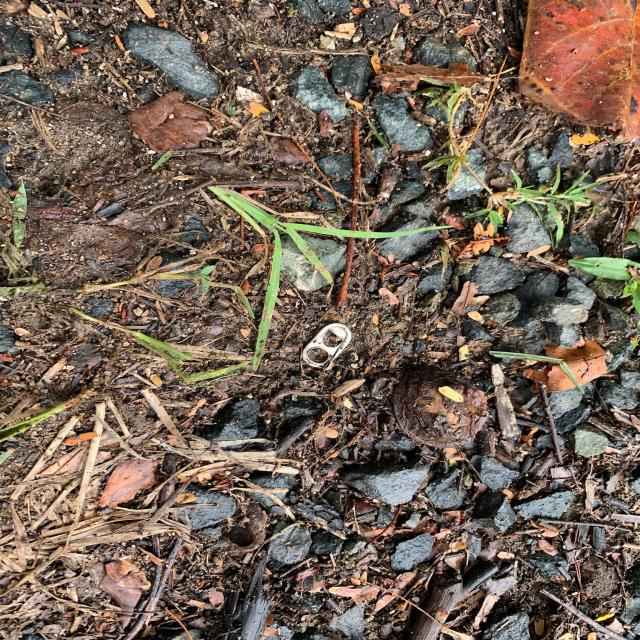litter: (303, 325, 352, 366)
